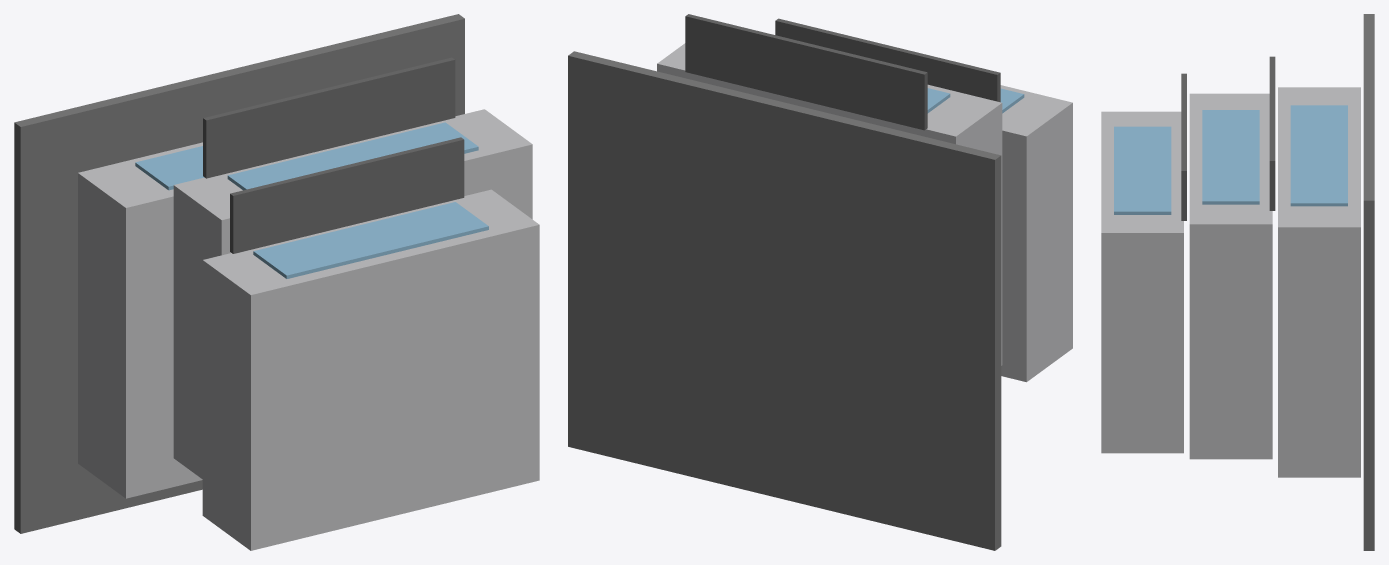
File: 3c83fae3-3fec-49b7-a497-690358a4b0ce.glb
The picture shows the model from 3 angles, left to right: view 1: azimuth 30°, elevation 25°; view 2: azimuth 150°, elevation 25°; view 3: azimuth 270°, elevation 25°; orthographic projection. The views are drawn at different scales.
Visible parts, largest first — view 1: geometry_6, geometry_0, geometry_1, geometry_3, geometry_5, geometry_8, geometry_7, geometry_4, geometry_2; view 2: geometry_0, geometry_6, geometry_5, geometry_3, geometry_8; view 3: geometry_1, geometry_3, geometry_6, geometry_0, geometry_2, geometry_4, geometry_7, geometry_5, geometry_8.
Part boxes in pixels (<box>): geometry_6: <box>202,189,539,550</box>; geometry_0: <box>14,14,464,533</box>; geometry_1: <box>78,142,202,498</box>; geometry_3: <box>173,109,532,478</box>; geometry_5: <box>203,57,455,178</box>; geometry_8: <box>230,137,464,253</box>; geometry_7: <box>253,202,488,278</box>; geometry_4: <box>227,122,478,190</box>; geometry_2: <box>135,146,204,190</box>; geometry_0: <box>568,51,1001,550</box>; geometry_6: <box>1000,85,1072,382</box>; geometry_5: <box>685,14,927,130</box>; geometry_3: <box>657,43,1002,365</box>; geometry_8: <box>775,18,1000,102</box>; geometry_1: <box>1278,87,1360,477</box>; geometry_3: <box>1189,93,1272,459</box>; geometry_6: <box>1101,111,1183,453</box>; geometry_0: <box>1363,14,1374,550</box>; geometry_2: <box>1290,105,1347,206</box>; geometry_4: <box>1202,110,1259,204</box>; geometry_7: <box>1114,126,1171,214</box>; geometry_5: <box>1269,56,1275,210</box>; geometry_8: <box>1181,73,1186,220</box>.
Size of the model in its own units: 16 by 14.5 by 9.9.
